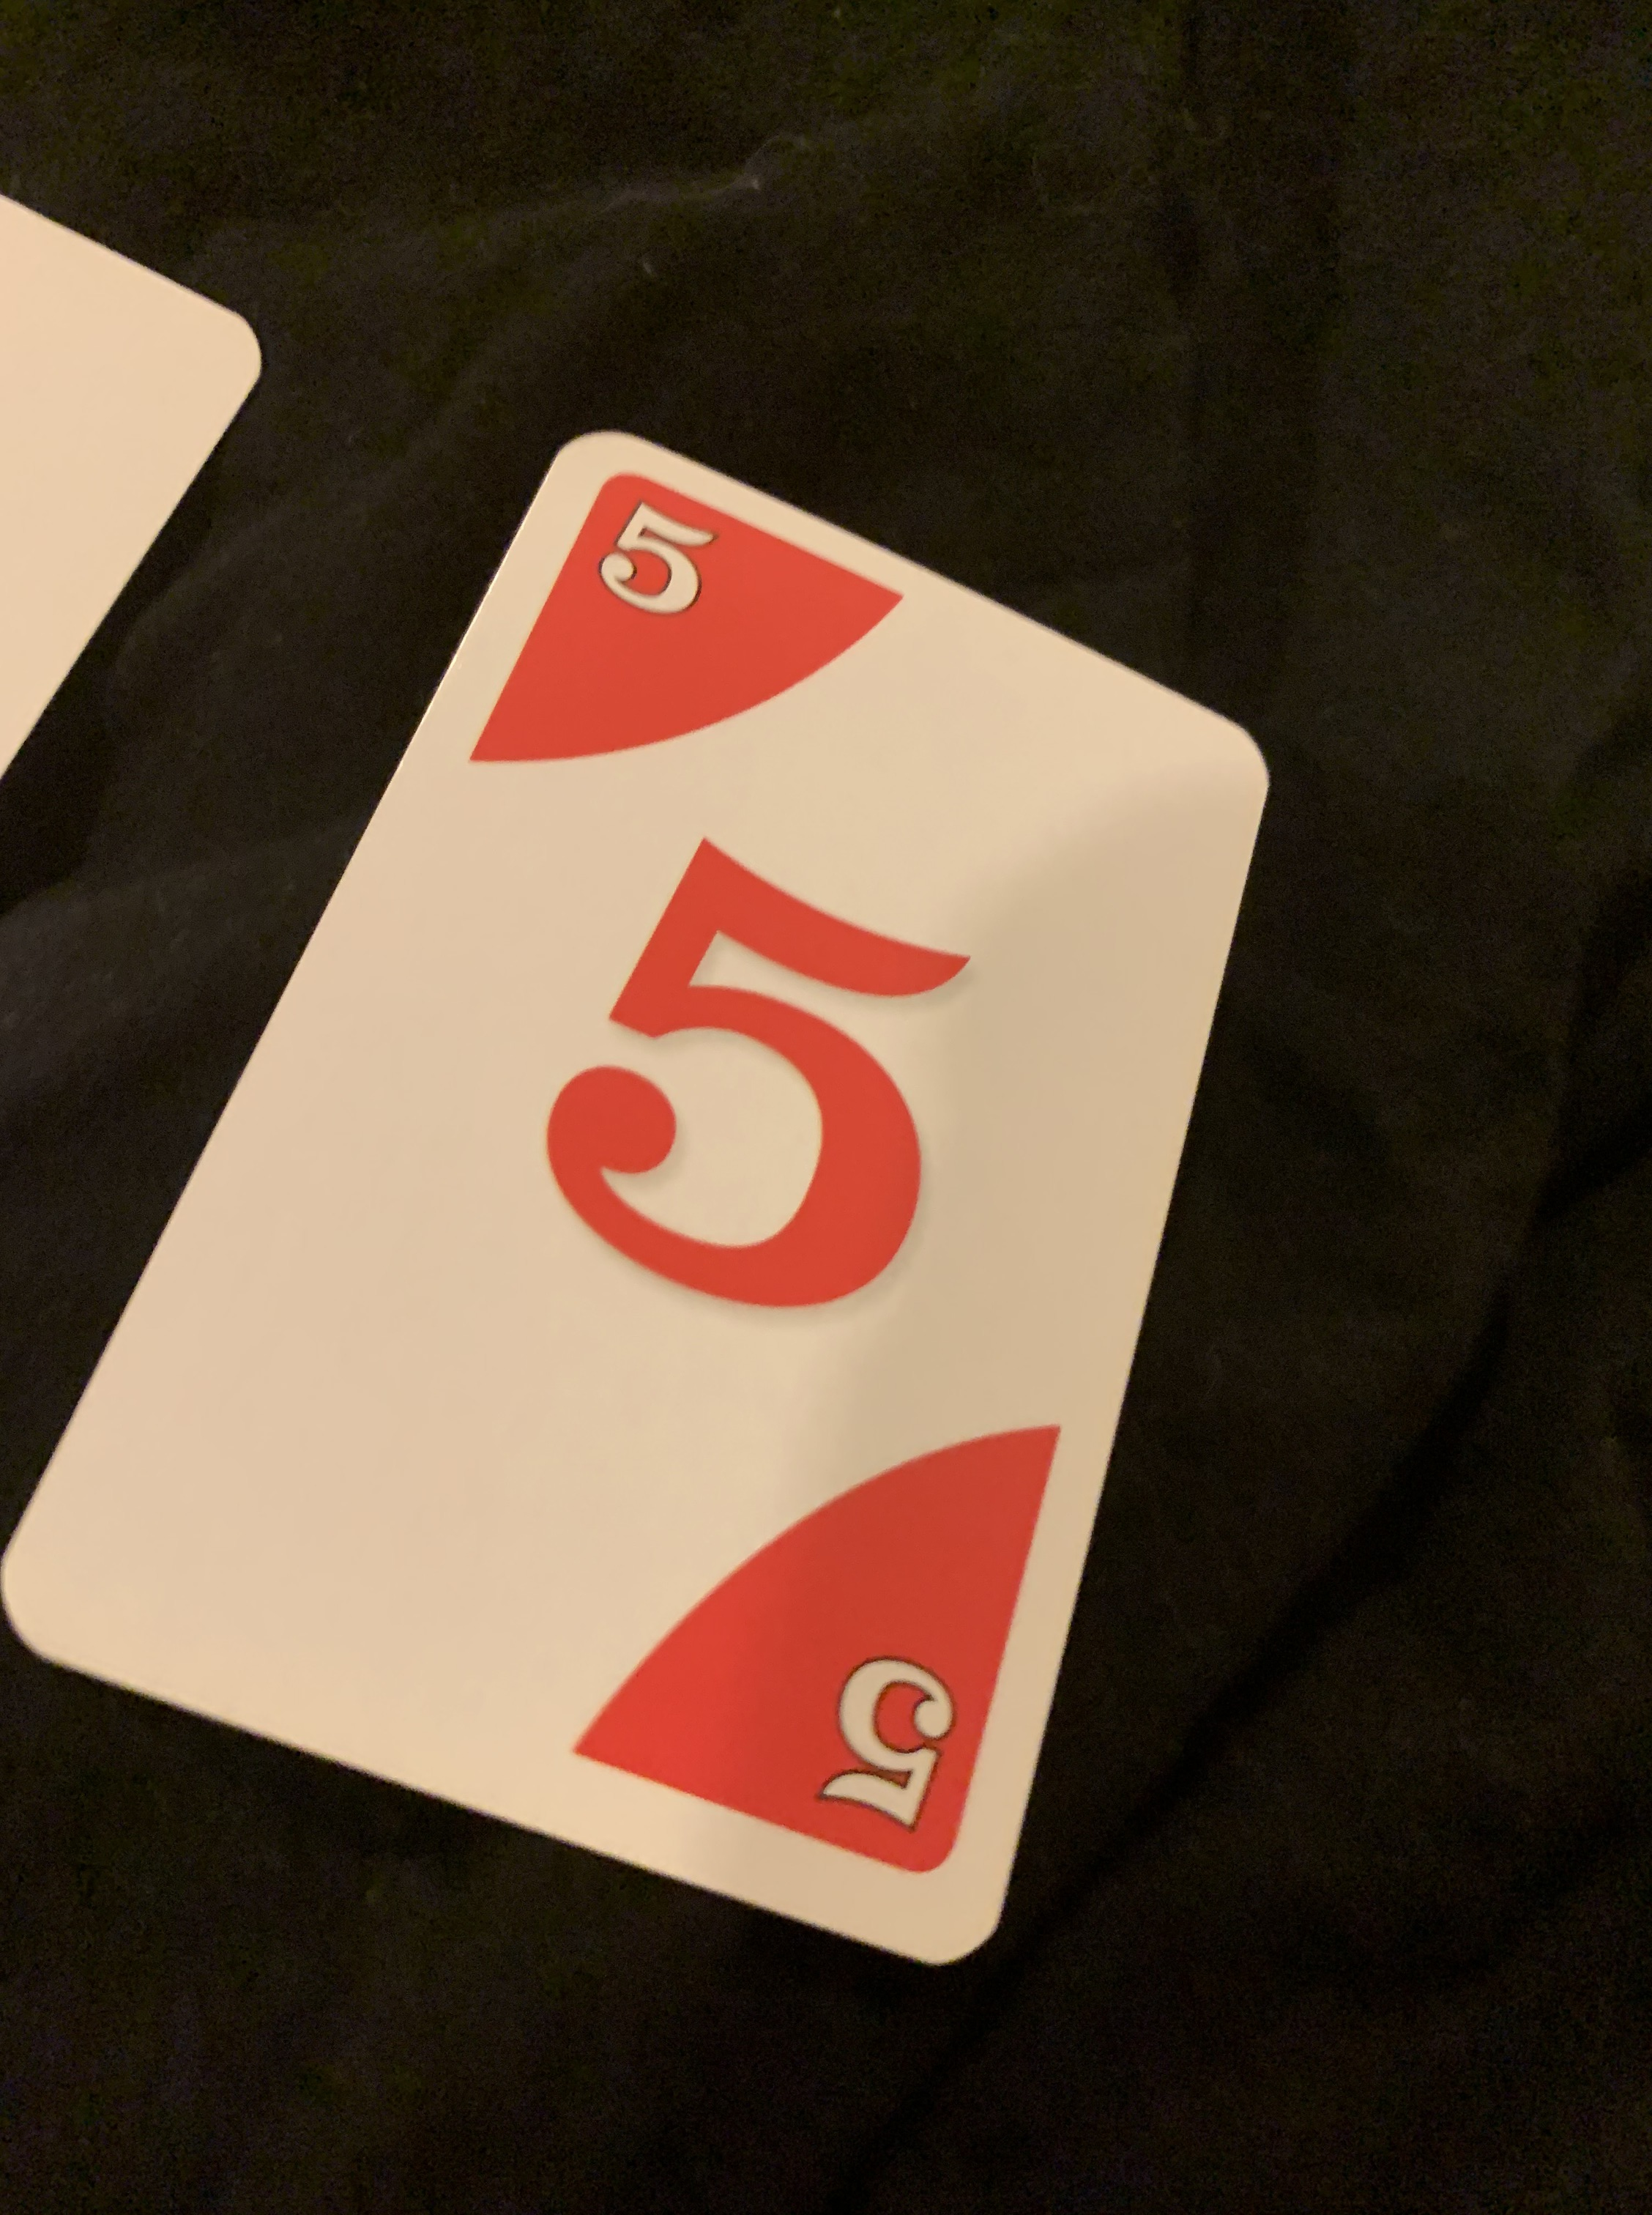five: (45, 391, 1301, 1946)
